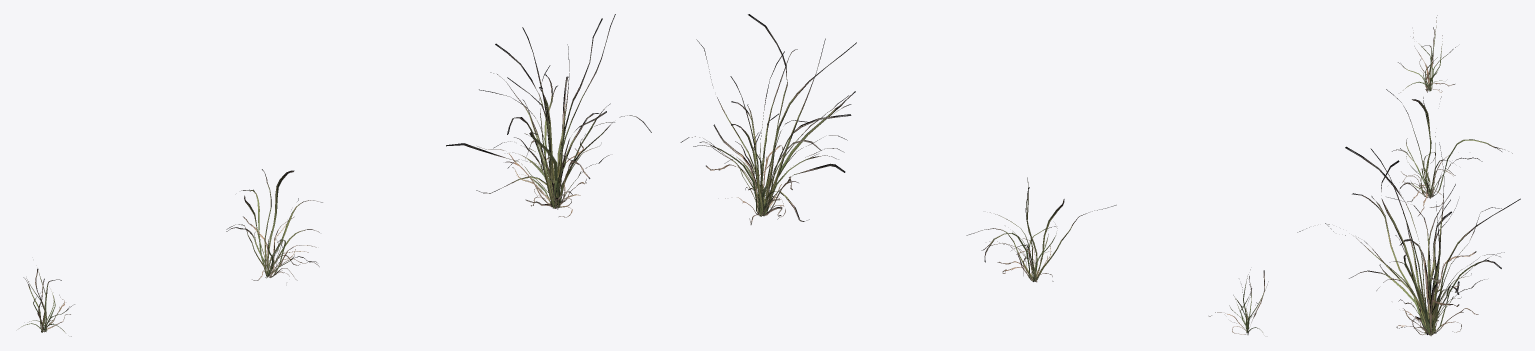
File: grass_medium_02.glb
The picture shows the model from 3 angles, left to right: view 1: azimuth 30°, elevation 25°; view 2: azimuth 150°, elevation 25°; view 3: azimuth 270°, elevation 25°; orthographic projection. The views are drawn at different scales.
Parts seen in each view (by area): view 1: grass_medium_02_e, grass_medium_02_c, grass_medium_02_a; view 2: grass_medium_02_e, grass_medium_02_c, grass_medium_02_a; view 3: grass_medium_02_e, grass_medium_02_c, grass_medium_02_a.
Boxes of the visible parts, x1=… form: grass_medium_02_e: x1=446, y1=14, x2=651, y2=217; grass_medium_02_c: x1=226, y1=169, x2=322, y2=280; grass_medium_02_a: x1=19, y1=268, x2=74, y2=336; grass_medium_02_e: x1=680, y1=14, x2=856, y2=224; grass_medium_02_c: x1=966, y1=177, x2=1116, y2=282; grass_medium_02_a: x1=1209, y1=269, x2=1268, y2=334; grass_medium_02_e: x1=1297, y1=142, x2=1520, y2=335; grass_medium_02_c: x1=1386, y1=89, x2=1512, y2=215; grass_medium_02_a: x1=1398, y1=15, x2=1455, y2=92.
Bounding box in the file's own units: 1.31 × 0.4053 × 0.4332.
1 material, 1 textured.
